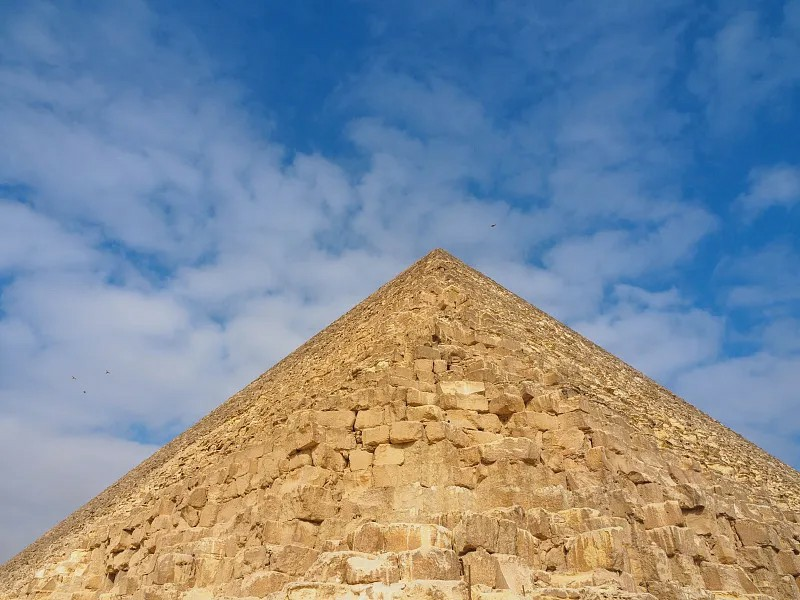Pyramid: (2, 249, 800, 600)
